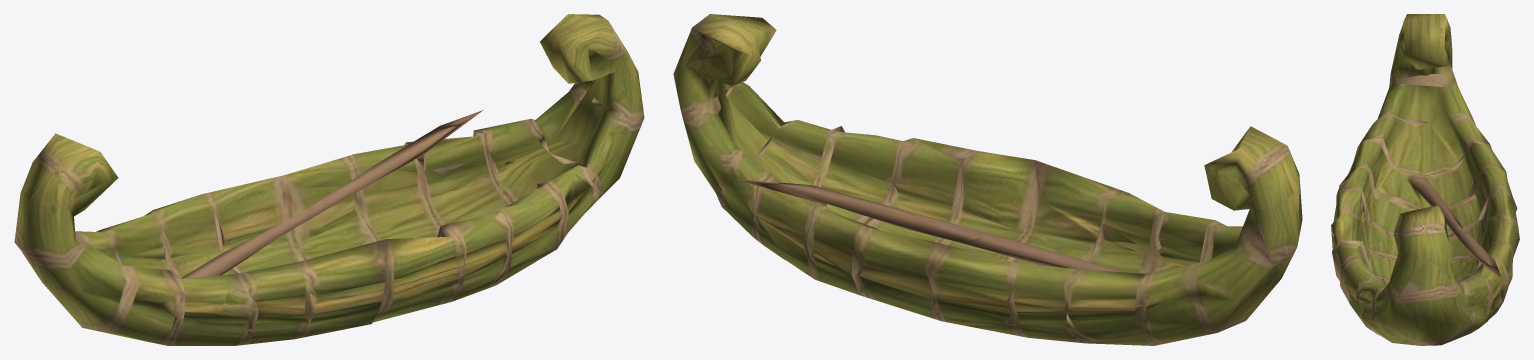
The model's file is reed_boat_lo.glb.
3 views of the same model, side by side, from view 1: azimuth 30°, elevation 25°; view 2: azimuth 150°, elevation 25°; view 3: azimuth 270°, elevation 25° (orthographic). The views are drawn at different scales.
Parts seen in each view (by area): view 1: tripo_node_499702f9-58b1-4053-80a1-e5530b800d6c; view 2: tripo_node_499702f9-58b1-4053-80a1-e5530b800d6c; view 3: tripo_node_499702f9-58b1-4053-80a1-e5530b800d6c.
Part boxes in pixels (x1,y1,x2,y2): tripo_node_499702f9-58b1-4053-80a1-e5530b800d6c: (14, 14, 644, 345); tripo_node_499702f9-58b1-4053-80a1-e5530b800d6c: (673, 14, 1302, 345); tripo_node_499702f9-58b1-4053-80a1-e5530b800d6c: (1331, 14, 1519, 345).
Bounding box in the file's own units: 0.9774 × 0.3591 × 0.343.
1 material, 1 textured.
